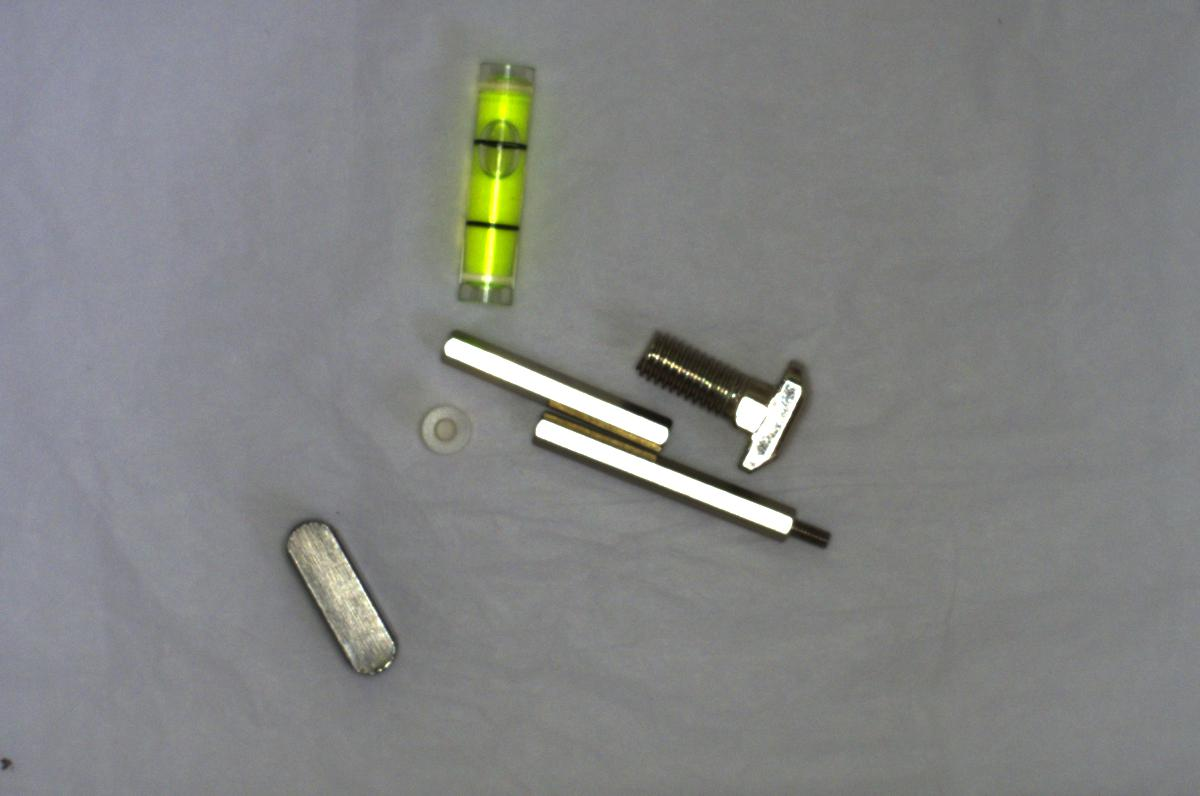Double hexagonal column: (433, 336, 673, 447)
Hexagonal steel column: (527, 413, 840, 555)
Horizontal bubble: (448, 48, 539, 325)
Keybar: (277, 503, 405, 679)
Plastic cushion pillar: (412, 402, 474, 460)
T-shaped screw: (621, 323, 811, 474)
